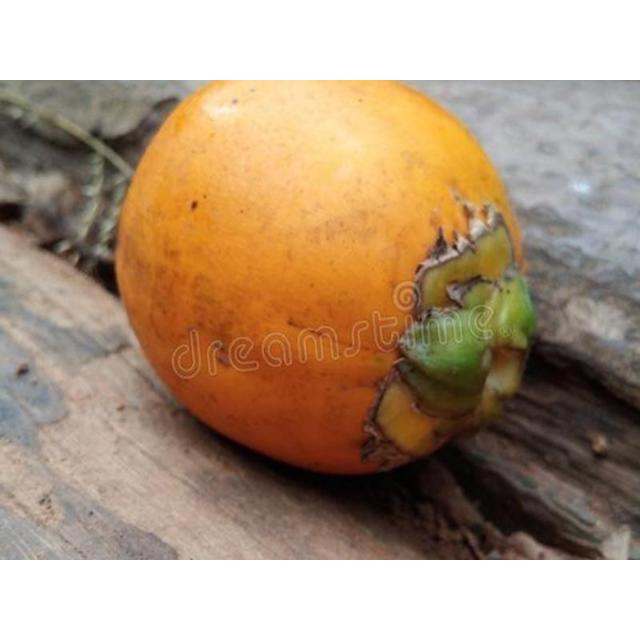good: (114, 80, 537, 479)
